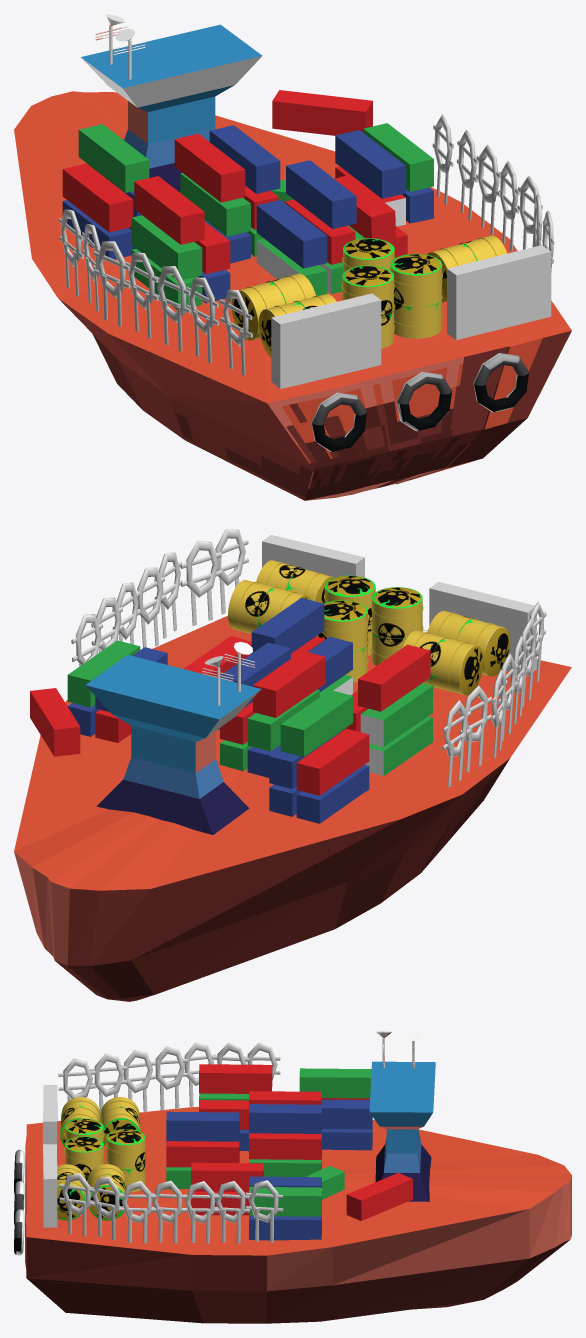
File: EVILBOAT(NO ANI).FBX
The picture shows the model from 3 angles, top to bottom: view 1: azimuth 30°, elevation 25°; view 2: azimuth 150°, elevation 25°; view 3: azimuth 270°, elevation 25°; orthographic projection. The views are drawn at different scales.
Visible parts, largest first — view 1: Plane005, Box047, Box046, OilTank002, Box039, Box036, Box037, Box012, Box035, Box025, Box027, Box015 (+31 smaller); view 2: Plane005, Box047, Box012, Box015, Box025, OilTank006, OilTank001, Box037, Box046, OilTank005, Box035, Box022 (+24 smaller); view 3: Plane005, Box035, Box020, Box025, Box039, Box015, Box019, OilTank003, Box034, Box029, Box044, Box028 (+31 smaller).
Boxes of the visible parts, x1=… form: Plane005: x1=14, y1=14, x2=571, y2=500; Box047: x1=271, y1=293, x2=381, y2=388; Box046: x1=447, y1=245, x2=551, y2=339; OilTank002: x1=390, y1=253, x2=442, y2=338; Box039: x1=272, y1=90, x2=372, y2=135; Box036: x1=256, y1=199, x2=327, y2=268; Box037: x1=174, y1=133, x2=245, y2=202; Box012: x1=62, y1=163, x2=133, y2=232; Box035: x1=286, y1=160, x2=356, y2=228; Box025: x1=134, y1=176, x2=204, y2=244; Box027: x1=335, y1=130, x2=405, y2=198; Box015: x1=78, y1=124, x2=149, y2=192; Plane005: x1=14, y1=615, x2=571, y2=1001; Box047: x1=429, y1=581, x2=536, y2=673; Box012: x1=296, y1=728, x2=369, y2=795; Box015: x1=280, y1=690, x2=353, y2=756; Box025: x1=358, y1=644, x2=430, y2=711; OilTank006: x1=402, y1=630, x2=483, y2=695; OilTank001: x1=371, y1=587, x2=423, y2=665; Box037: x1=253, y1=651, x2=325, y2=717; Box046: x1=262, y1=535, x2=364, y2=577; OilTank005: x1=427, y1=610, x2=510, y2=676; Box035: x1=251, y1=598, x2=324, y2=653; Box022: x1=360, y1=683, x2=432, y2=746; Plane005: x1=25, y1=1030, x2=571, y2=1323; Box035: x1=166, y1=1111, x2=239, y2=1141; Box020: x1=249, y1=1104, x2=321, y2=1133; Box025: x1=199, y1=1064, x2=272, y2=1093; Box039: x1=346, y1=1173, x2=412, y2=1220; Box015: x1=299, y1=1068, x2=371, y2=1098; Box019: x1=249, y1=1131, x2=321, y2=1159; OilTank003: x1=106, y1=1129, x2=145, y2=1192; Box034: x1=166, y1=1139, x2=239, y2=1167; Box029: x1=249, y1=1186, x2=321, y2=1216; Box044: x1=191, y1=1162, x2=263, y2=1191; Box028: x1=249, y1=1213, x2=321, y2=1240.
Bounding box in the file's own units: 92.37 × 74.83 × 148.
Materials: 3 (3 with a texture image).
